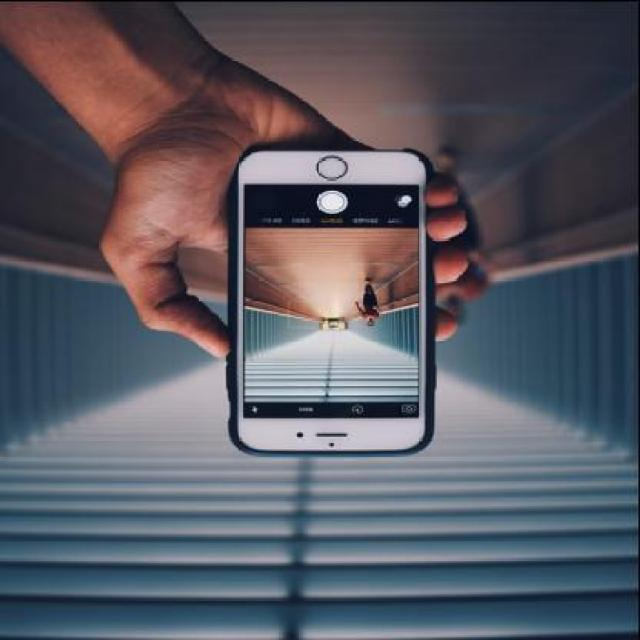mobile: (228, 142, 432, 458)
